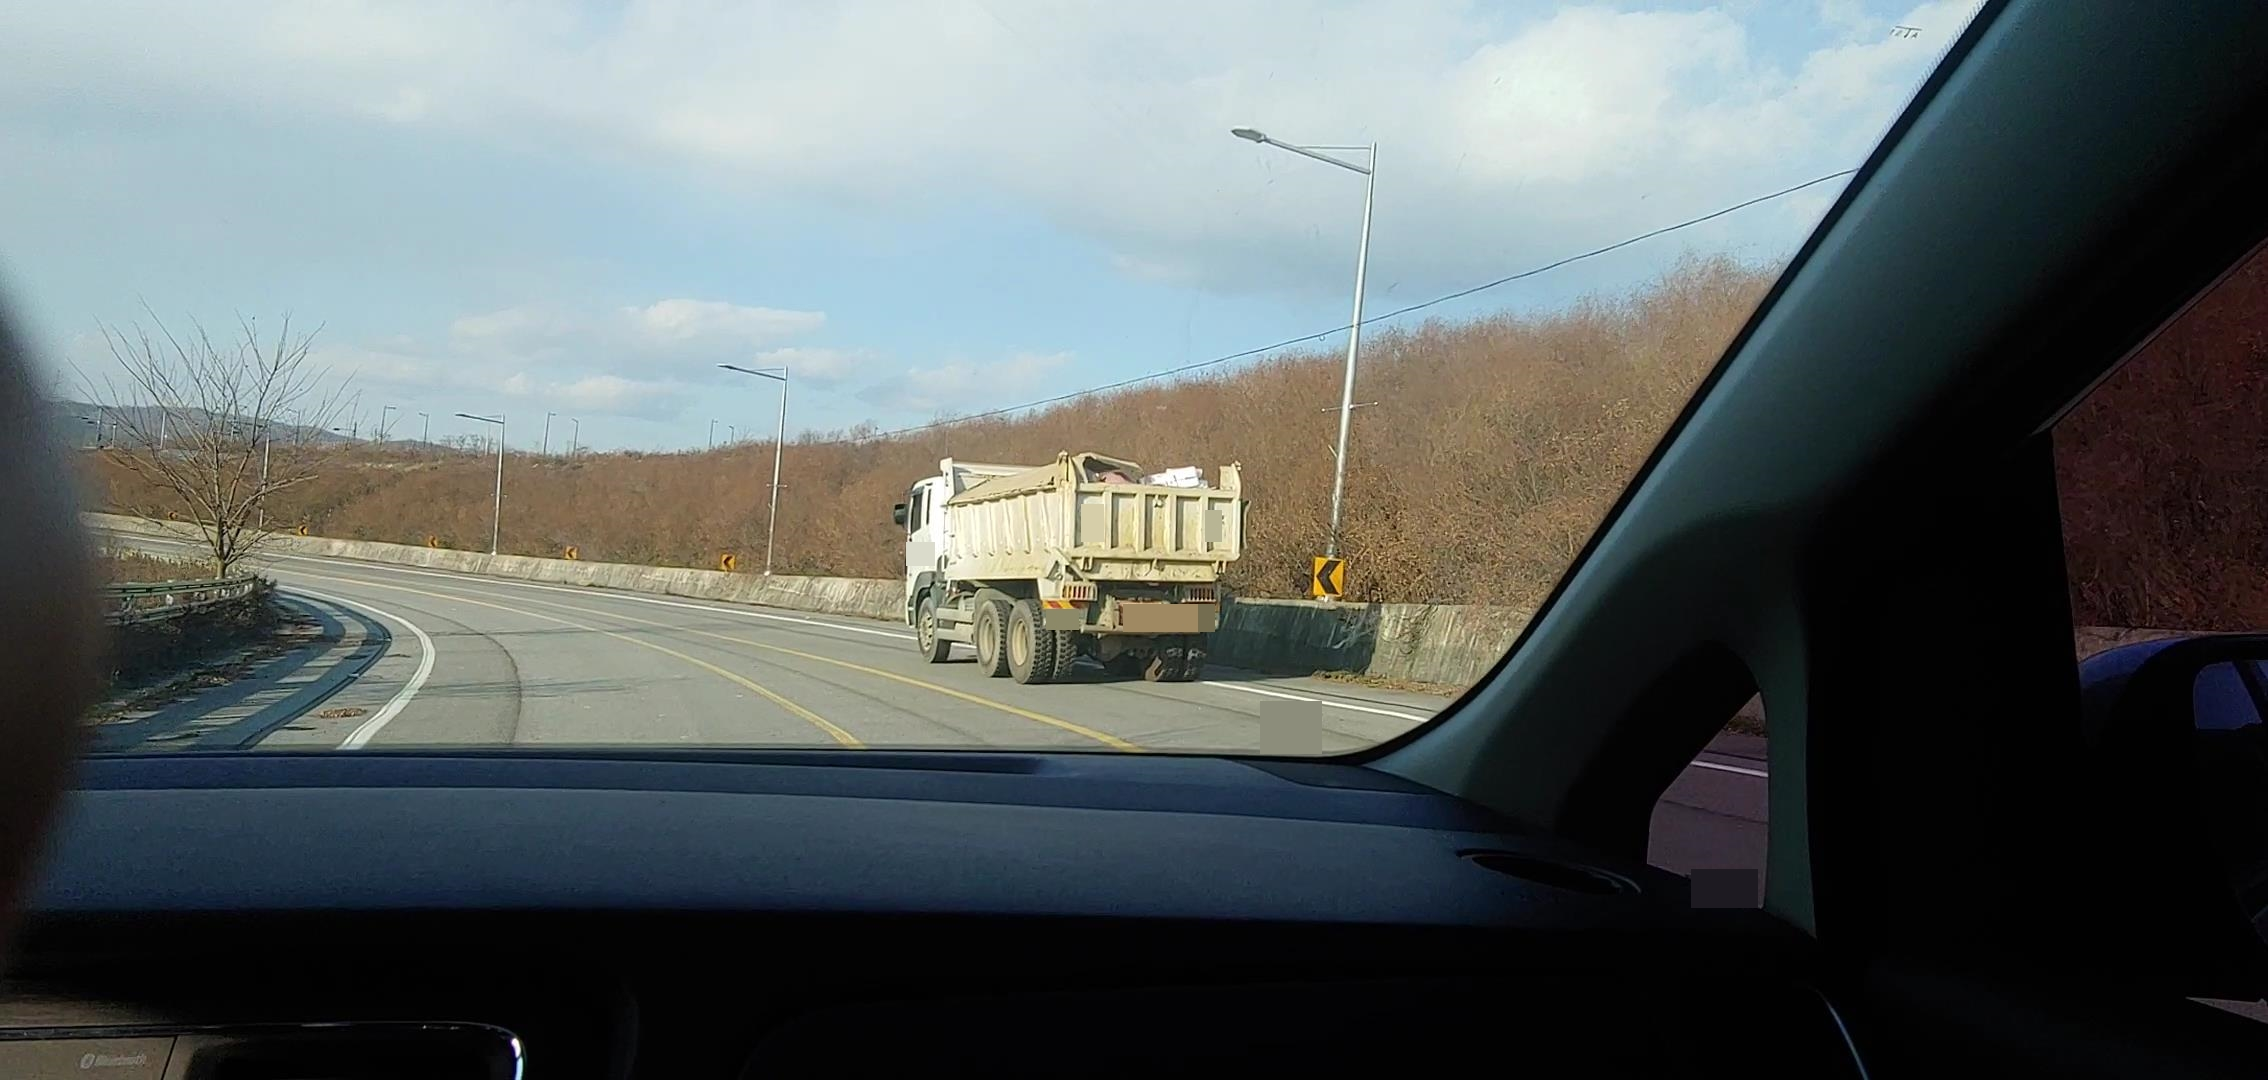불법차량: (890, 448, 1251, 687)
